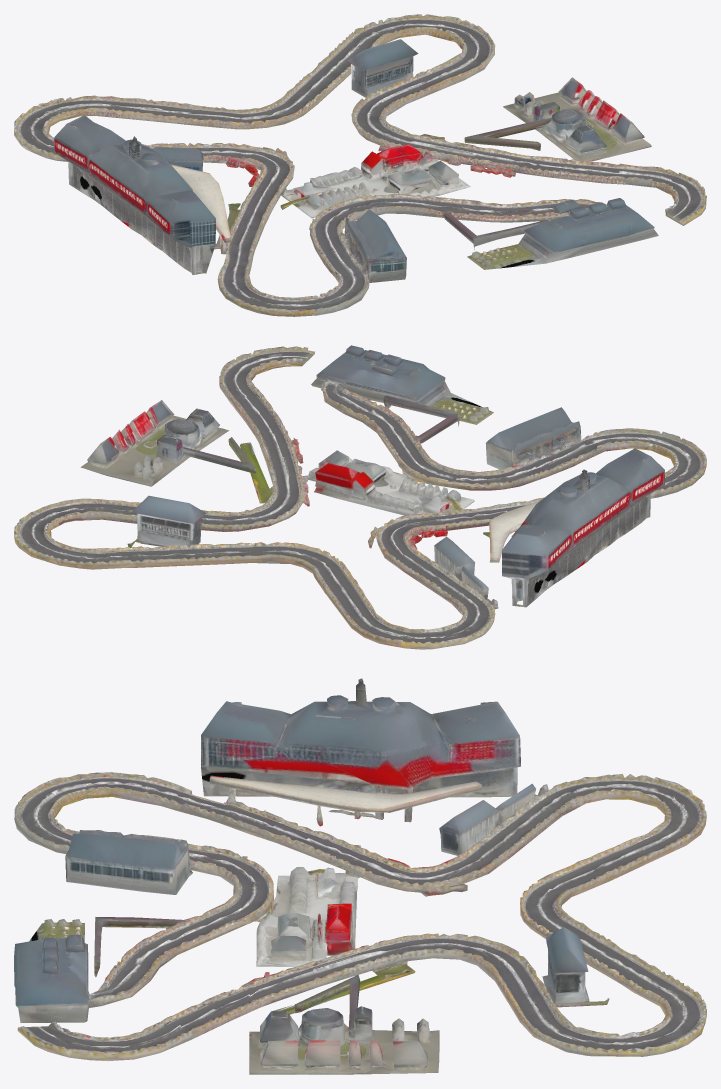
Rendered from Raceway.opt.glb.
3 views of the same model, one above another, from view 1: azimuth 30°, elevation 25°; view 2: azimuth 150°, elevation 25°; view 3: azimuth 270°, elevation 25° (orthographic). The views are drawn at different scales.
Parts seen in each view (by area): view 1: Mesh1.0; view 2: Mesh1.0; view 3: Mesh1.0.
Part boxes in pixels (x1,y1,x2,y2): Mesh1.0: (14, 14, 706, 316); Mesh1.0: (14, 345, 706, 649); Mesh1.0: (14, 678, 706, 1074).
Bounding box in the file's own units: 1.91 × 0.3469 × 1.88.
1 material, 1 textured.
